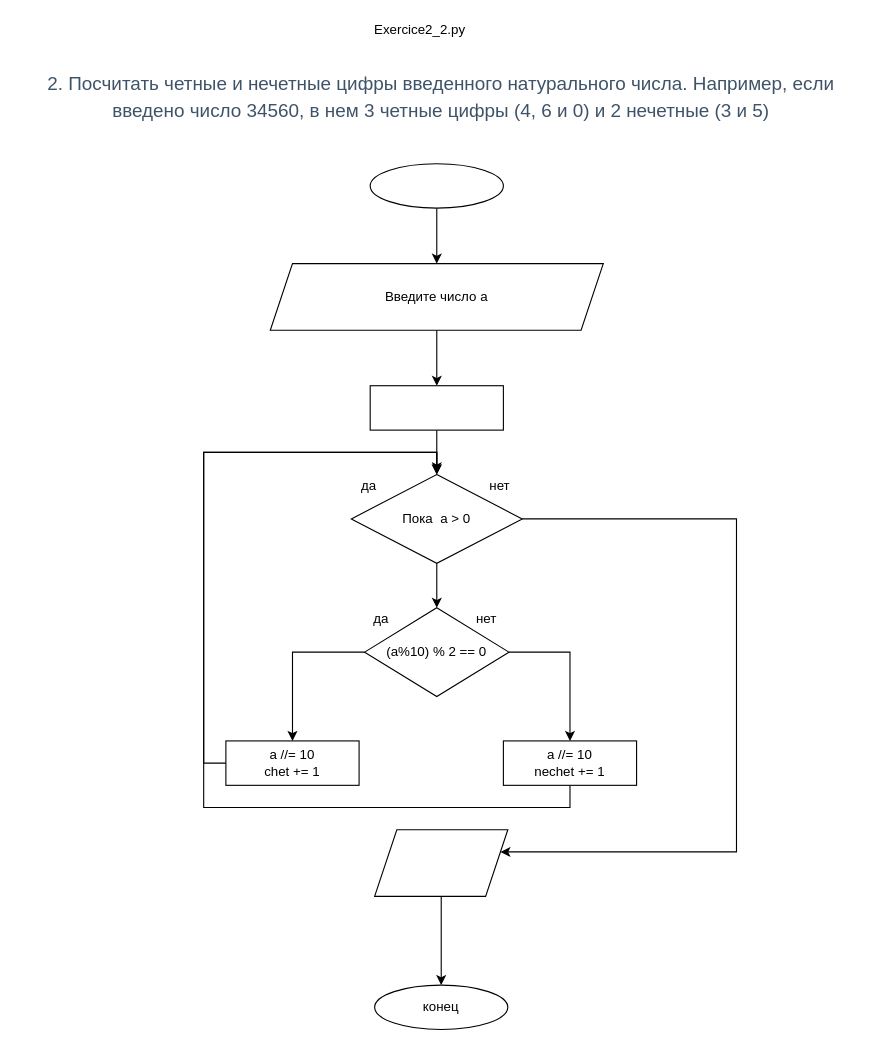
Image size: 881x1049. Some labels were removed from this diagram. The centre of each missing label's shape, as x and y in pixels:
chet = 0 nechet = 0: (x=436, y=407)
Вывод chet, nechet: (x=441, y=862)
Начало: (x=436, y=185)
